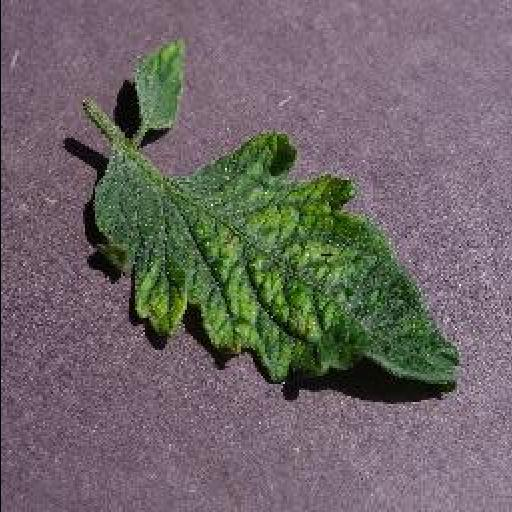disease_tomato: (92, 131, 463, 389), (132, 36, 190, 134)
